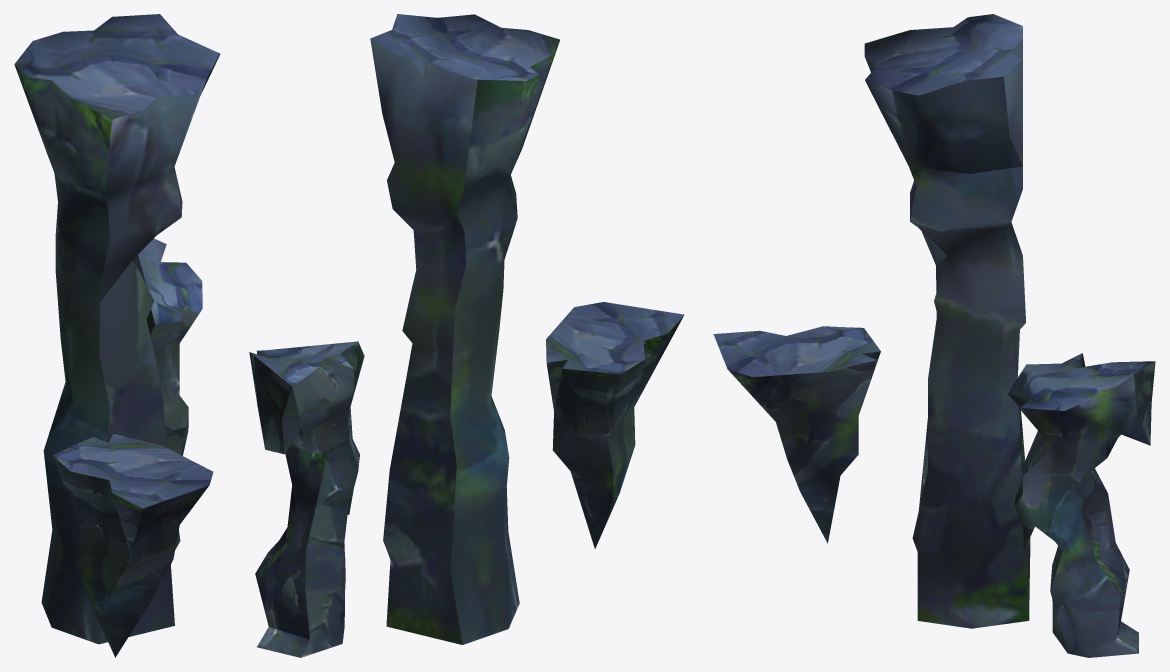
The model's file is FB7_zhongjinshi1.FBX.
3 views of the same model, side by side, from view 1: azimuth 30°, elevation 25°; view 2: azimuth 150°, elevation 25°; view 3: azimuth 270°, elevation 25° (orthographic). The views are drawn at different scales.
Parts seen in each view (by area): view 1: FB7_zhongjinshi1_002, FB7_zhongjinshi1_001, FB7_zhongjinshi1_003; view 2: FB7_zhongjinshi1_002, FB7_zhongjinshi1_003, FB7_zhongjinshi1_001; view 3: FB7_zhongjinshi1_002, FB7_zhongjinshi1_003, FB7_zhongjinshi1_001.
Boxes of the visible parts, <box> form: FB7_zhongjinshi1_002: <box>14,14,220,644</box>; FB7_zhongjinshi1_001: <box>53,434,213,657</box>; FB7_zhongjinshi1_003: <box>138,238,202,455</box>; FB7_zhongjinshi1_002: <box>370,14,559,644</box>; FB7_zhongjinshi1_003: <box>249,341,364,657</box>; FB7_zhongjinshi1_001: <box>546,302,684,548</box>; FB7_zhongjinshi1_002: <box>864,14,1030,628</box>; FB7_zhongjinshi1_003: <box>1008,353,1155,657</box>; FB7_zhongjinshi1_001: <box>713,326,880,543</box>.
Size of the model in its own units: 118 by 253 by 181.
